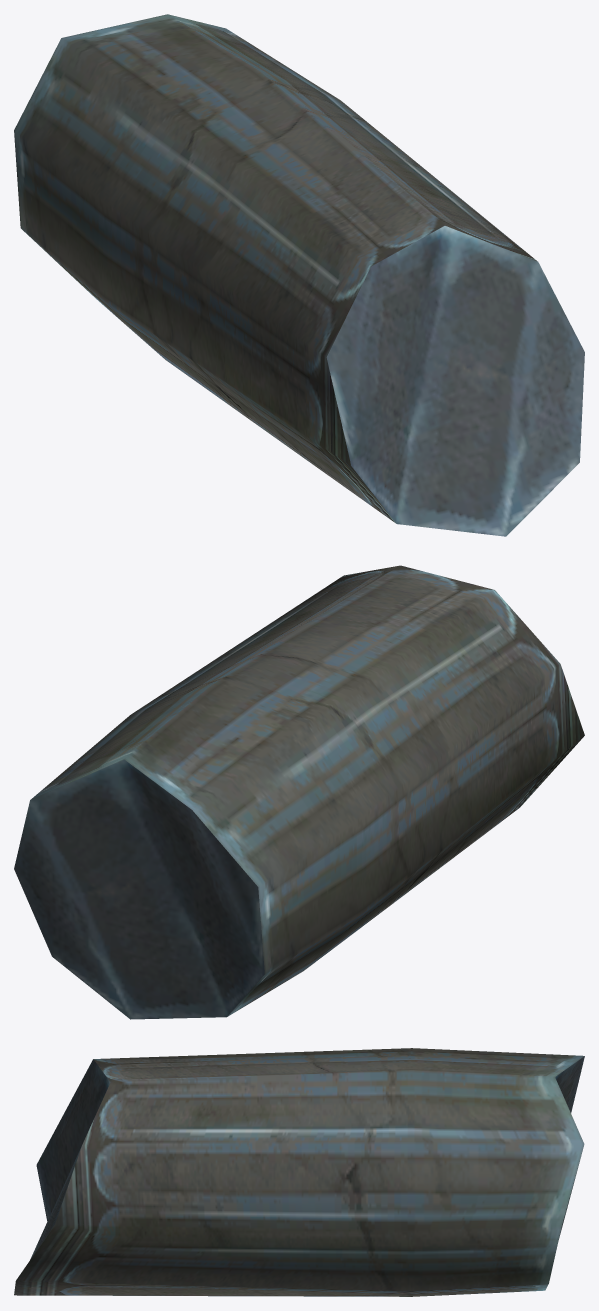
Rendered from stemple_pillar_06.fbx.
3 renders of one model, top to bottom at view 1: azimuth 30°, elevation 25°; view 2: azimuth 150°, elevation 25°; view 3: azimuth 270°, elevation 25°, orthographic. The views are drawn at different scales.
Visible parts, largest first — view 1: sunken_tileset/sunken_wall_convex02_mat; view 2: sunken_tileset/sunken_wall_convex02_mat; view 3: sunken_tileset/sunken_wall_convex02_mat.
Part boxes in pixels (x1,y1,x2,y2): sunken_tileset/sunken_wall_convex02_mat: [14, 14, 584, 536]; sunken_tileset/sunken_wall_convex02_mat: [14, 565, 584, 1019]; sunken_tileset/sunken_wall_convex02_mat: [14, 1048, 584, 1296].
Size of the model in its own units: 1.55 by 1.56 by 3.57.
